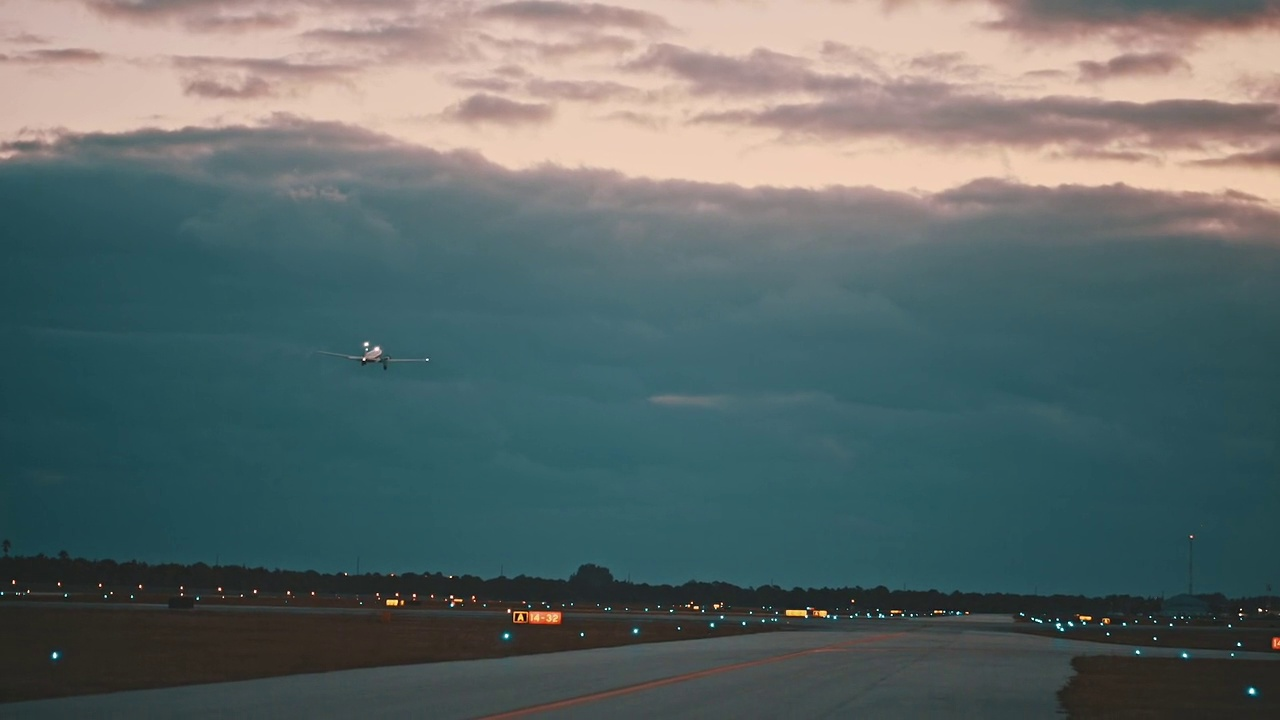plane: (315, 340, 431, 370)
